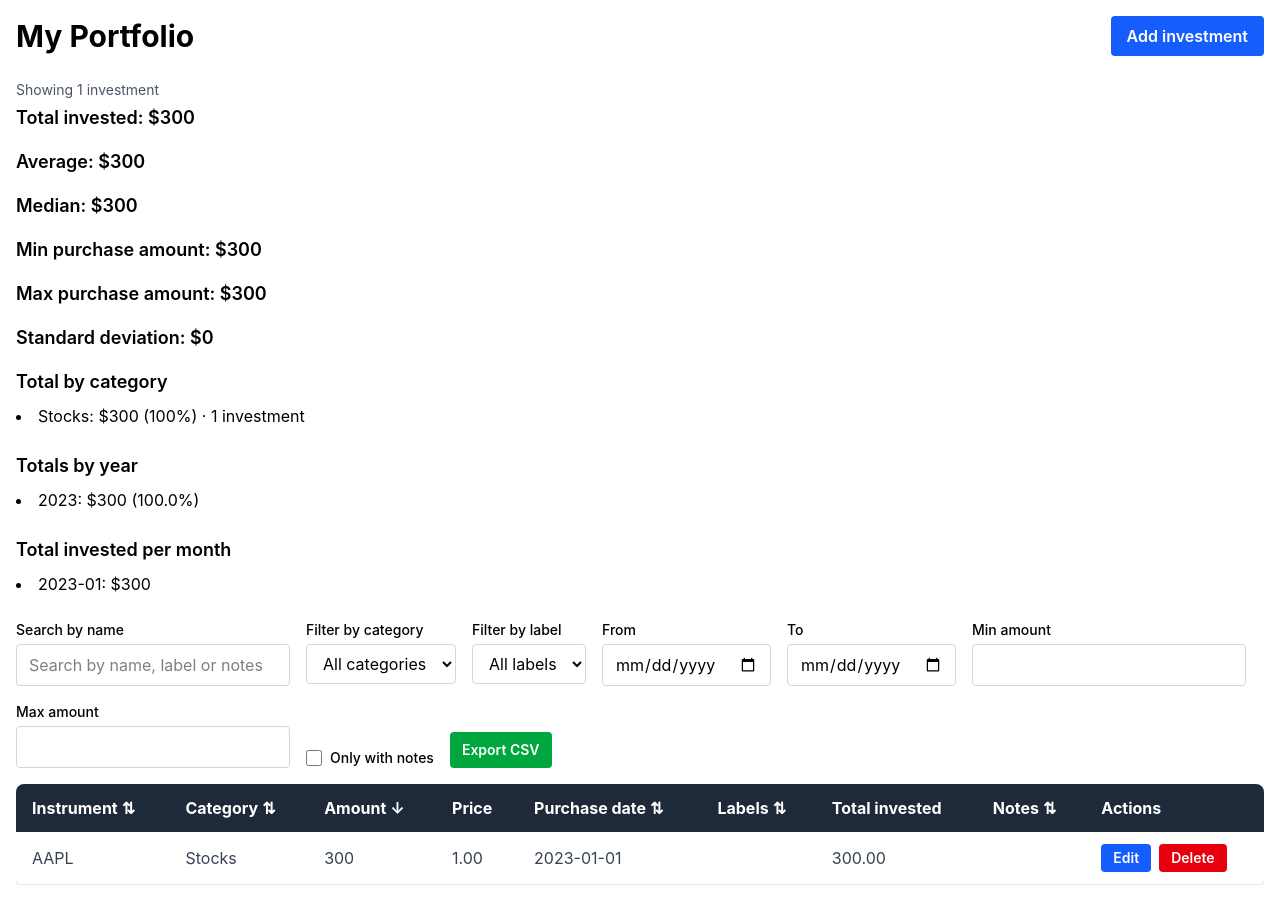
HomePage › issue #59: each category's share of the portfolio › AC-003: does not render a percentage when the filtered total is 0
Type "no-match-xyz" into the field with placeholder "Search by name, label or notes" at (153, 665), box left=16, top=644, right=290, bottom=686
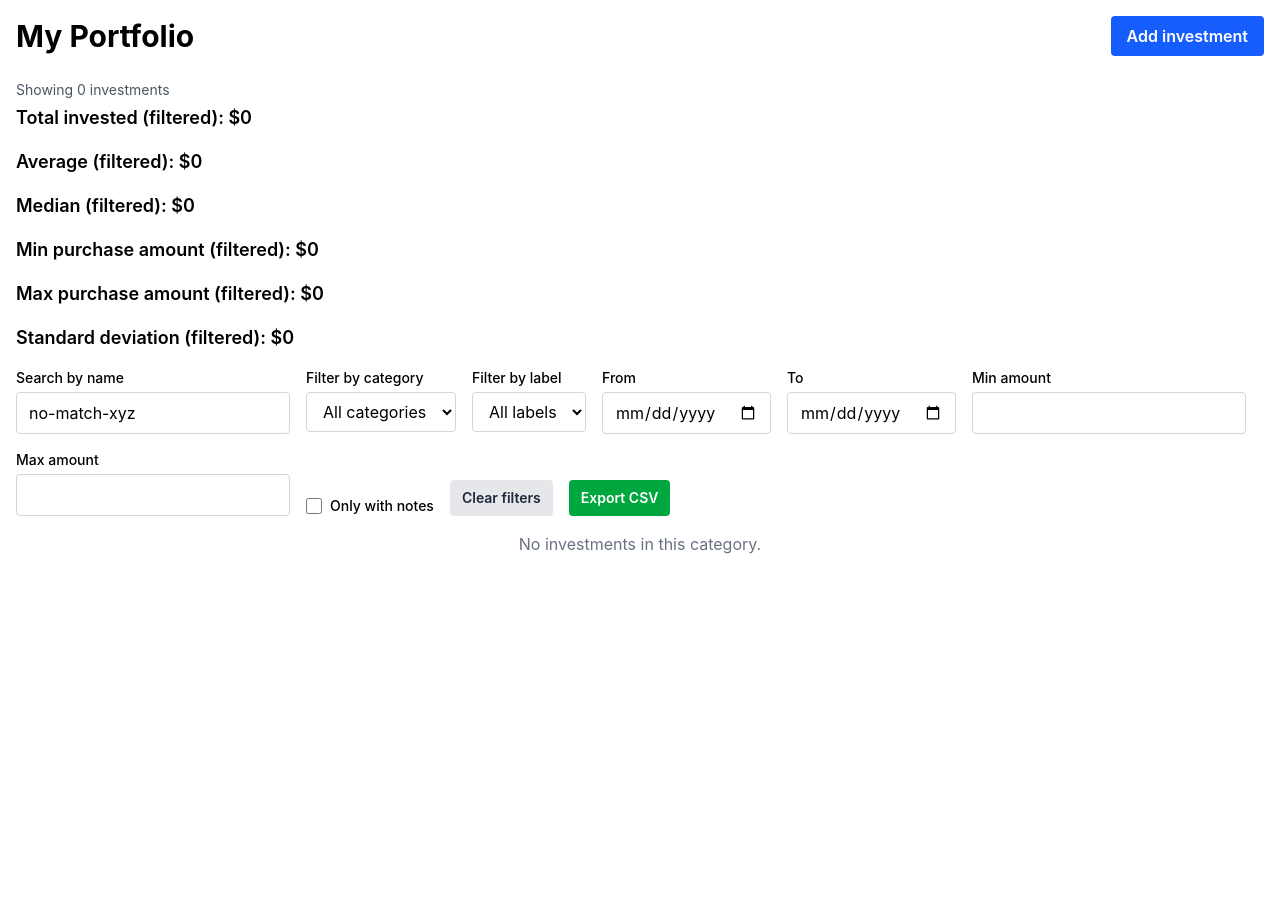
Expected: the heading "Total by category" is gone
Expected: the list item "Stocks: $300 (100%) · 1 investment" is gone
